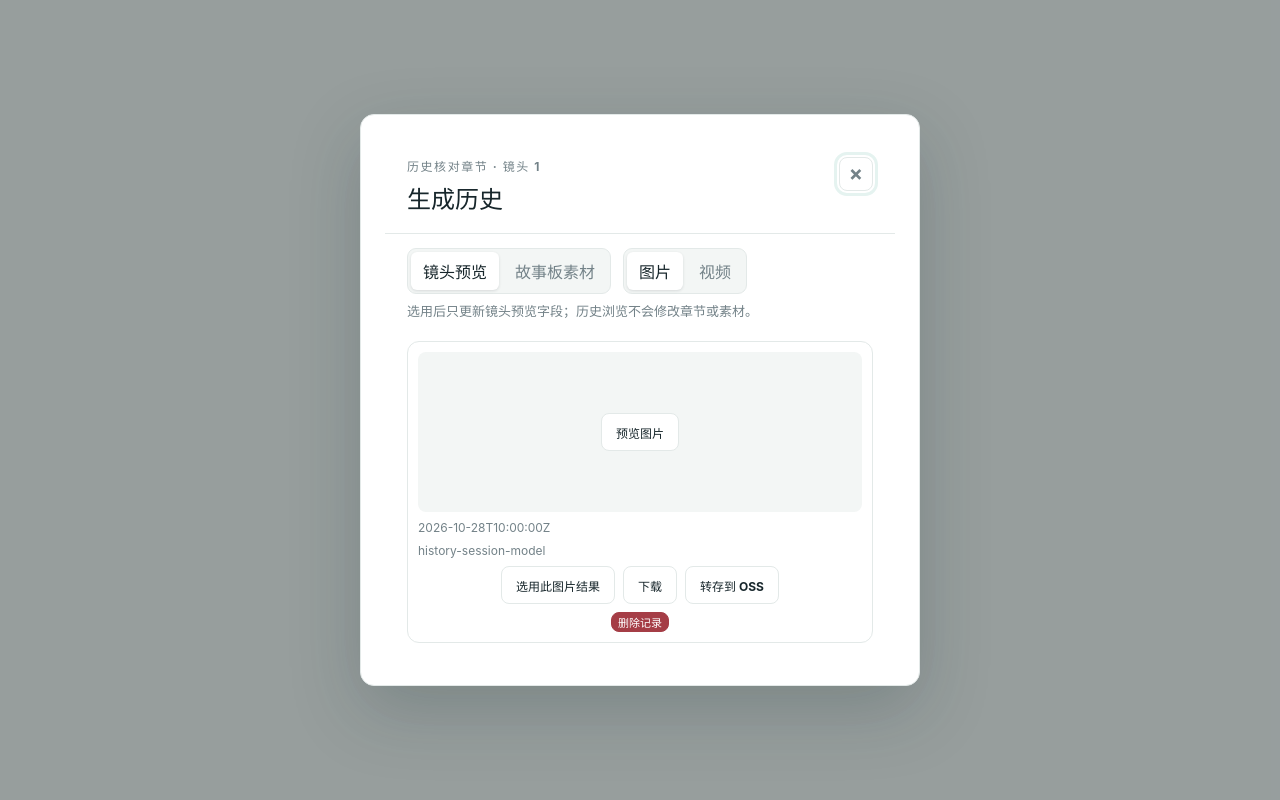
Test: ChapterGenerationHistorySession › checks an unknown PUT by GET without repeating the transfer or message update
The width and height of the screenshot is (1280, 800).
expect the text "history-session-model" is shown: met, box [418,543,546,558]
Click the button "转存到 OSS".
click(732, 585)  # box [685,566,779,604]
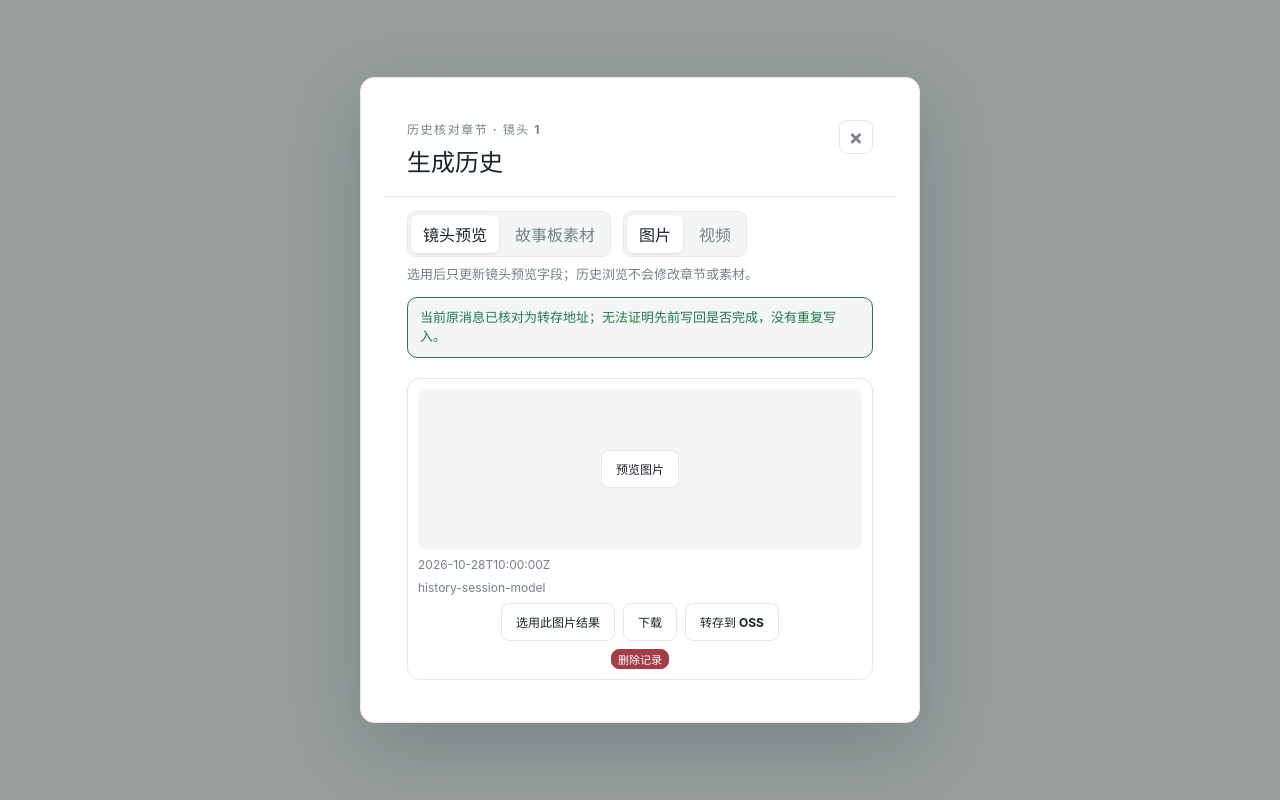
expect the text "当前原消息已核对为转存地址；无法证明先前写回是否完成，没有重复写入。" is shown: met, box [420,308,860,347]
